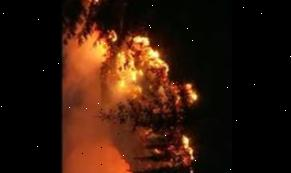fire: (71, 0, 204, 117), (158, 132, 206, 166)
